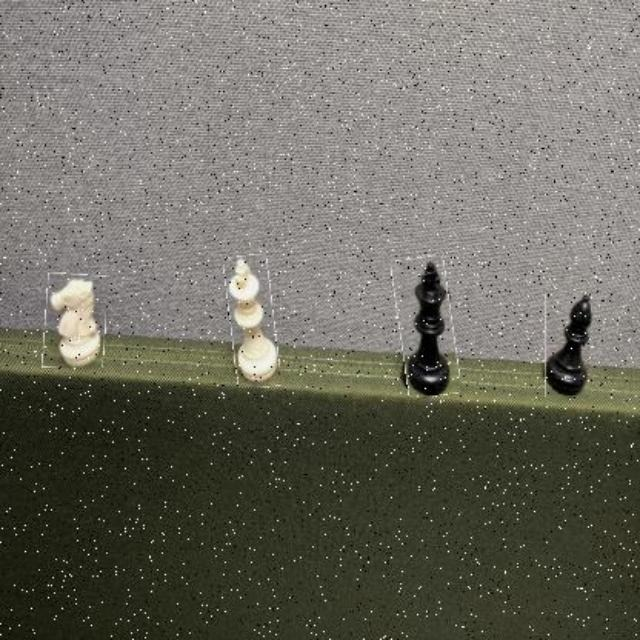black-bishop: (544, 295, 591, 399)
black-king: (395, 257, 456, 398)
white-king: (228, 255, 278, 388)
white-knight: (44, 273, 106, 368)
